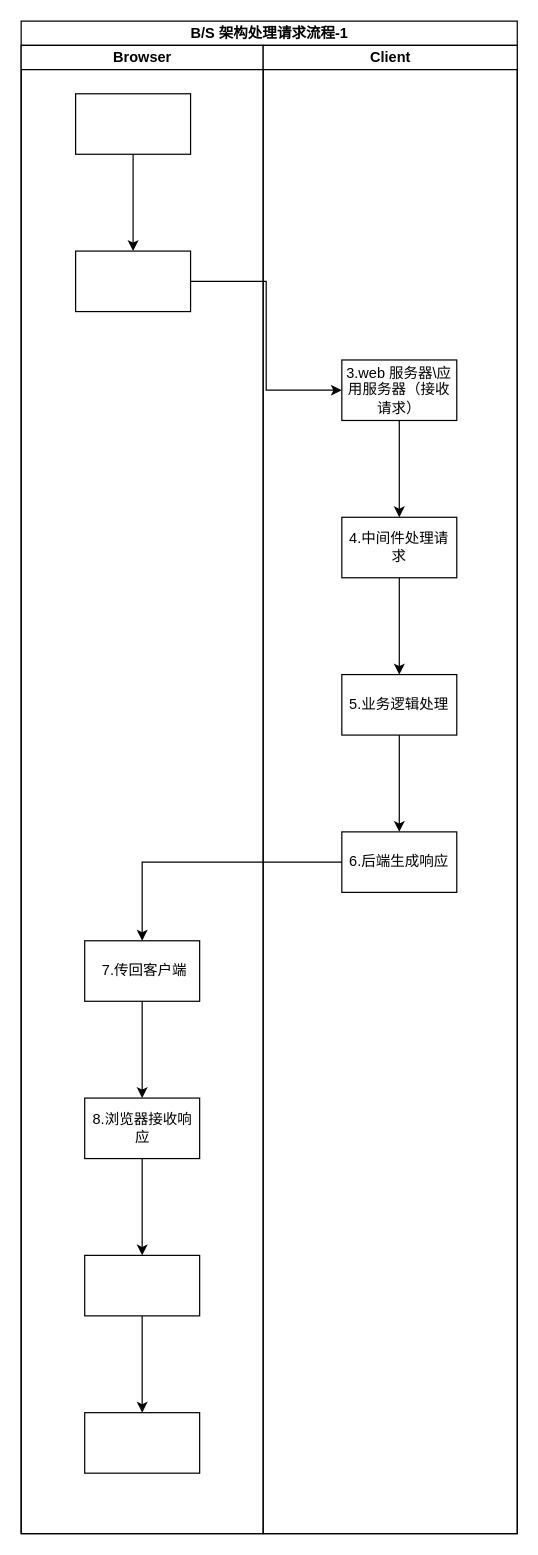
Some shapes in this 538 by 1555 pixel diagram are drawn without their labels. The centre of each missing label's shape, as x and y in pixels:
1.用户发起网络请求: the point at 132,123
10.关闭连接: the point at 141,1442
2.浏览器对请求本身进行基础的 安全校验: the point at 132,281
9.页面渲染展示响应: the point at 141,1285
